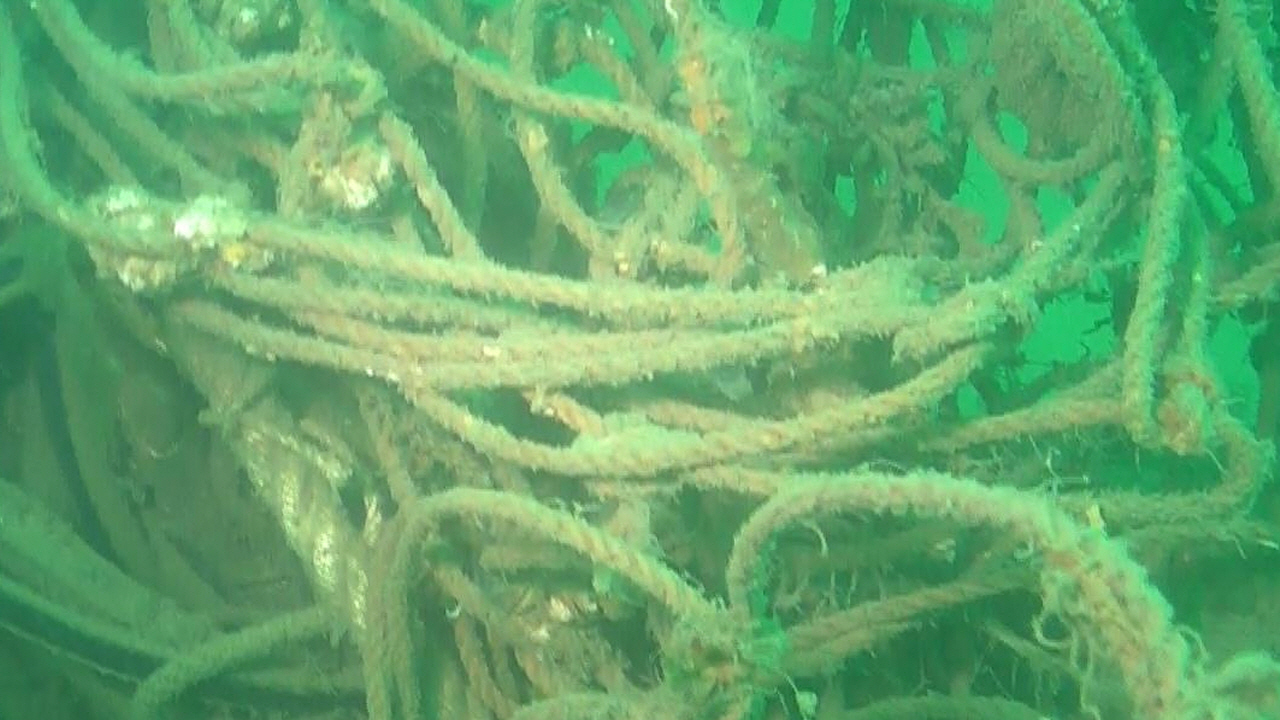bundle of ropes: (0, 2, 1280, 720)
